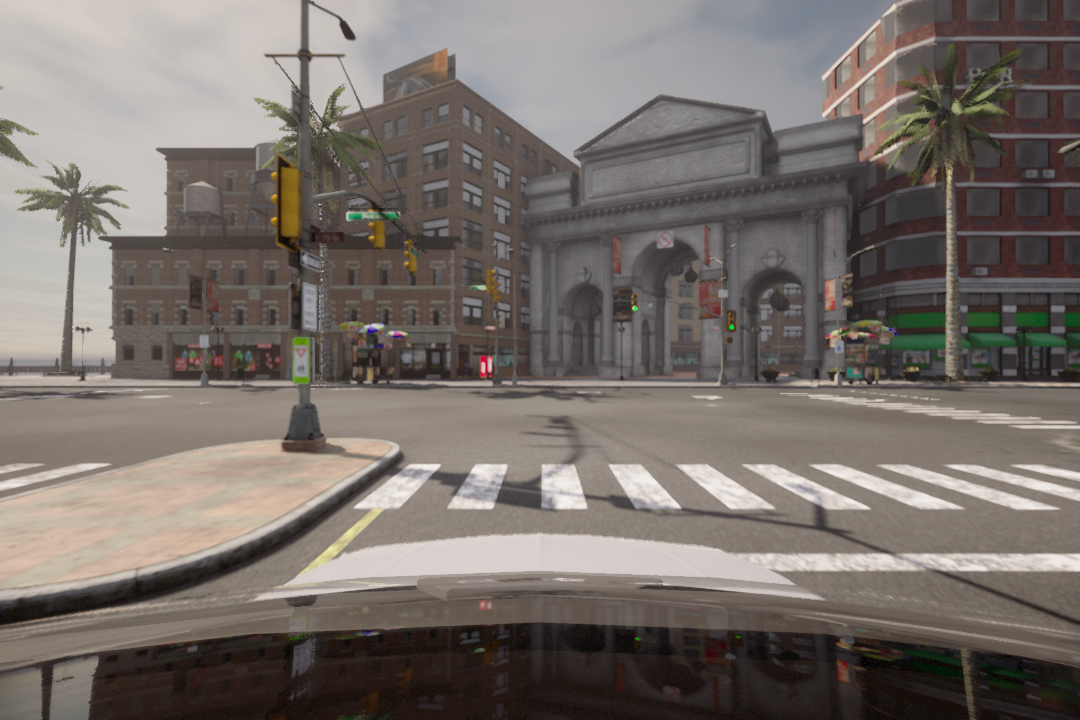TrafficLight: (726, 309, 738, 332), (630, 292, 637, 311)
TrafficSign: (657, 227, 675, 249)
walkside: (371, 460, 1080, 520)
